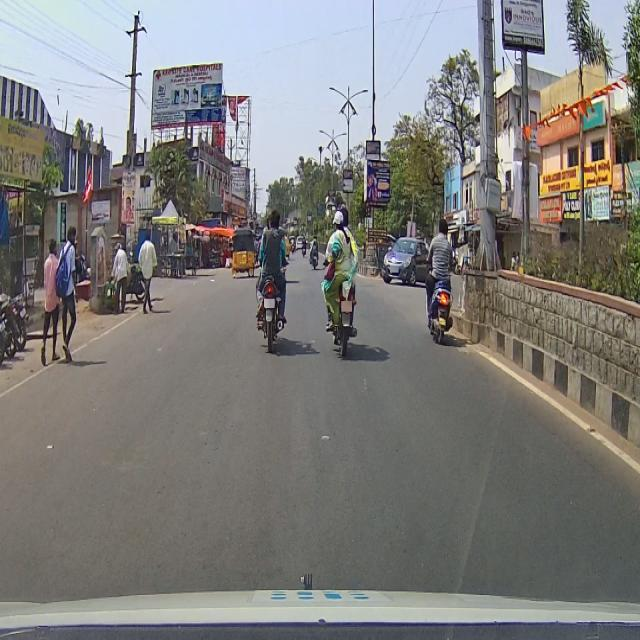motorcycle ahead at: (318, 273, 366, 362), (250, 265, 292, 361), (421, 272, 462, 352)
person ahead at: (58, 222, 88, 359), (40, 232, 60, 374), (132, 225, 158, 322)
